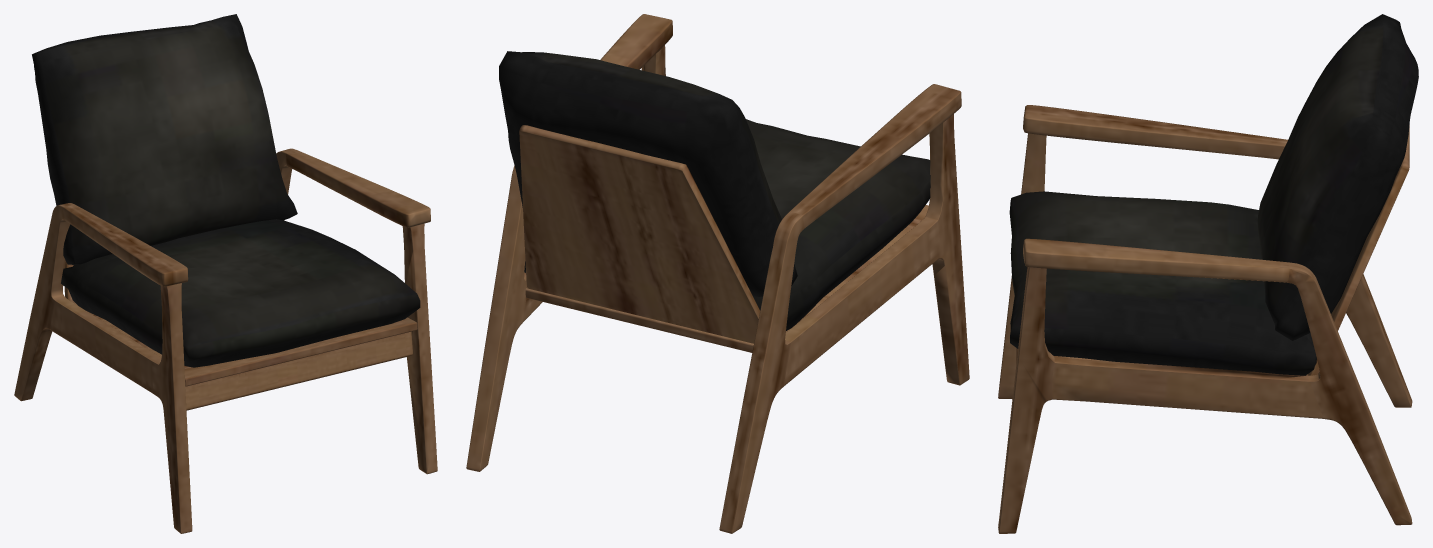
The model's file is armchair.glb.
The picture shows the model from 3 angles, left to right: view 1: azimuth 30°, elevation 25°; view 2: azimuth 150°, elevation 25°; view 3: azimuth 270°, elevation 25°; orthographic projection. The views are drawn at different scales.
Parts seen in each view (by area): view 1: modern_arm_chair_01; view 2: modern_arm_chair_01; view 3: modern_arm_chair_01.
Part boxes in pixels (x1=…): modern_arm_chair_01: x1=14, y1=14, x2=437, y2=533; modern_arm_chair_01: x1=466, y1=14, x2=969, y2=533; modern_arm_chair_01: x1=998, y1=14, x2=1418, y2=533.
Size of the model in its own units: 0.8203 by 1.02 by 0.9866.
Materials: 2 (2 with a texture image).
